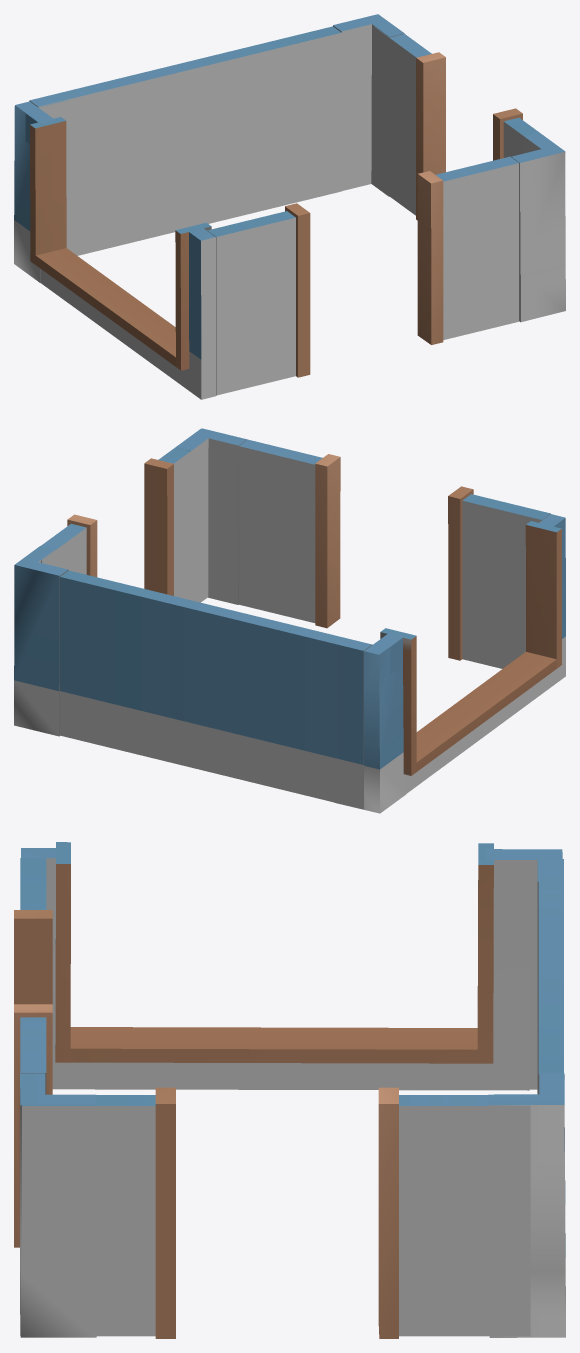
File: DORMIDORIO.fbx
The picture shows the model from 3 angles, top to bottom: view 1: azimuth 30°, elevation 25°; view 2: azimuth 150°, elevation 25°; view 3: azimuth 270°, elevation 25°; orthographic projection. The views are drawn at different scales.
Parts seen in each view (by area): view 1: paret_basica25, paret_puerta41, paret_con_ventana_grande22, paret_puerta45, paret_esquina_87, paret_esquina_78, paret_esquina37; view 2: paret_basica25, paret_puerta41, paret_con_ventana_grande22, paret_puerta45, paret_esquina_78, paret_esquina37, paret_esquina_87; view 3: paret_puerta45, paret_con_ventana_grande22, paret_esquina_78, paret_puerta41, paret_esquina_87, paret_esquina37, paret_basica25.
Part boxes in pixels (box(x1,y1,x2,y2)): paret_basica25: box(29, 26, 342, 255); paret_puerta41: box(207, 156, 519, 395); paret_con_ventana_grande22: box(25, 113, 215, 399); paret_puerta45: box(374, 27, 565, 220); paret_esquina_87: box(511, 132, 565, 322); paret_esquina_78: box(333, 14, 404, 196); paret_esquina37: box(14, 100, 68, 282); paret_basica25: box(60, 570, 372, 809); paret_puerta41: box(239, 439, 550, 668); paret_con_ventana_grande22: box(380, 514, 565, 793); paret_puerta45: box(41, 429, 208, 602); paret_esquina_78: box(14, 546, 68, 736); paret_esquina37: box(336, 632, 406, 813); paret_esquina_87: box(176, 428, 247, 604); paret_puerta45: box(22, 1087, 530, 1338); paret_con_ventana_grande22: box(21, 842, 529, 1090); paret_esquina_78: box(488, 1072, 565, 1337); paret_puerta41: box(14, 858, 52, 1247); paret_esquina_87: box(20, 1073, 96, 1337); paret_esquina37: box(486, 849, 562, 1094); paret_basica25: box(538, 859, 563, 1093).
Size of the model in its own units: 821 by 340 by 718.
